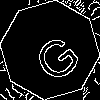G: (25, 25, 84, 86)
